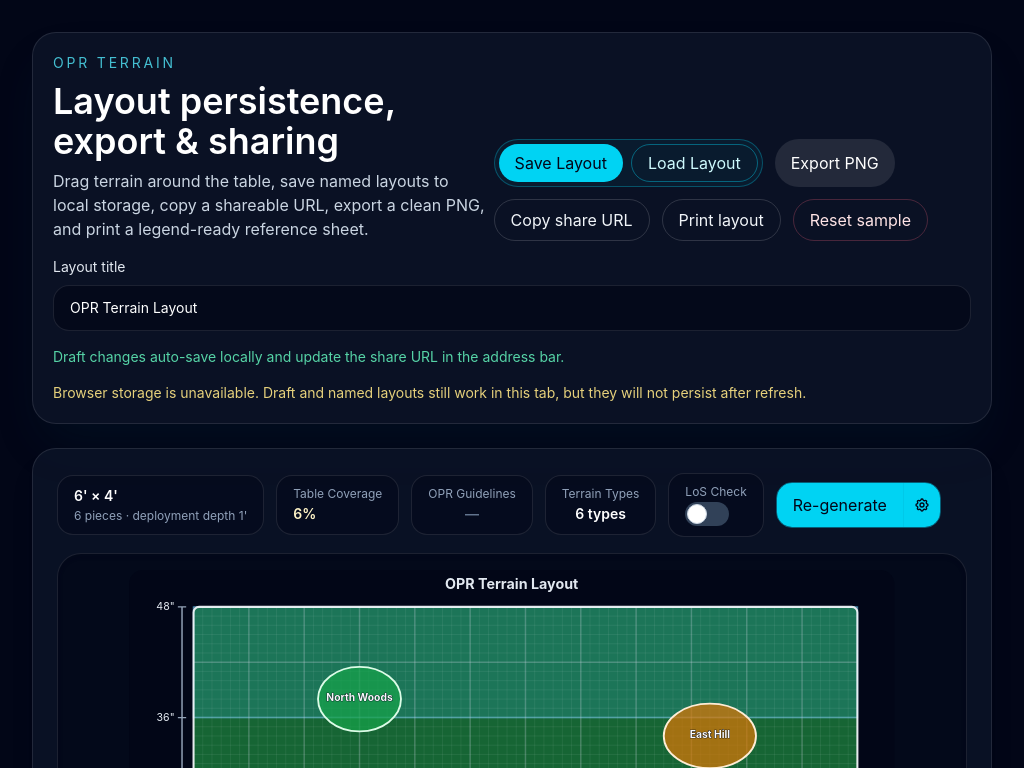
Test: LayoutStudio › shows a warning instead of crashing when browser storage writes fail
This screenshot has width=1024, height=768.
Expected: the message shows "Browser storage is unavailable", [53,384,806,401]
Click the button "Save Layout". click: (561, 163)
box: [499,144,623,182]
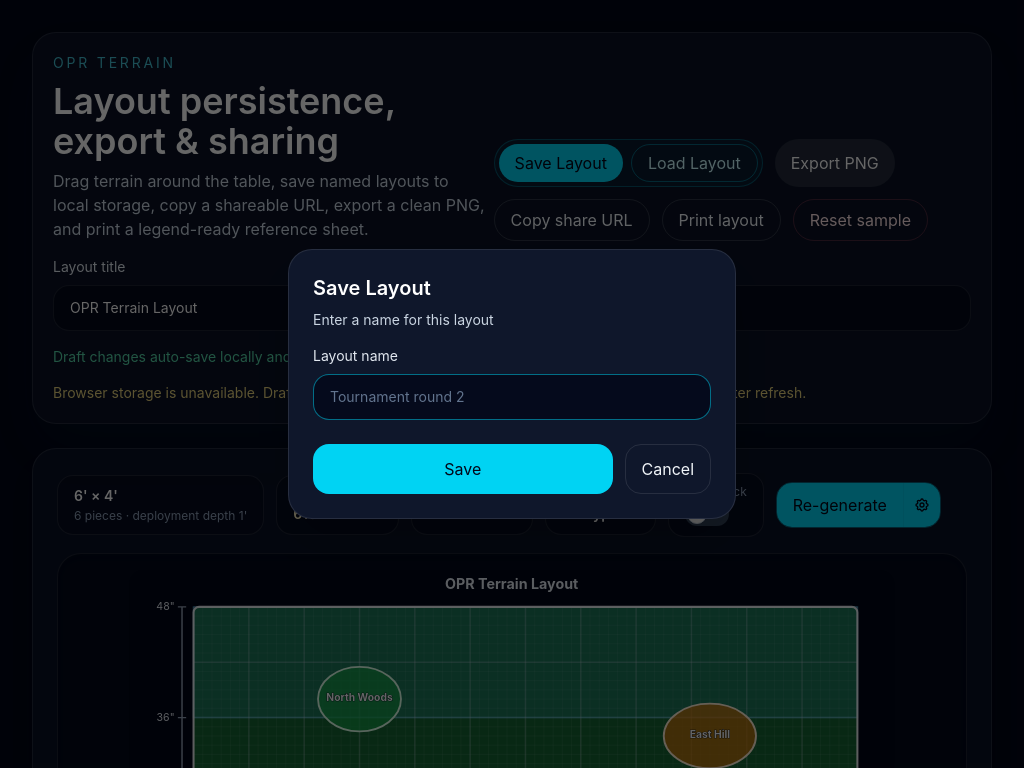
Type "Practice Match" into the field labelled "Layout name". click: (512, 397)
box: [313,374,711,420]
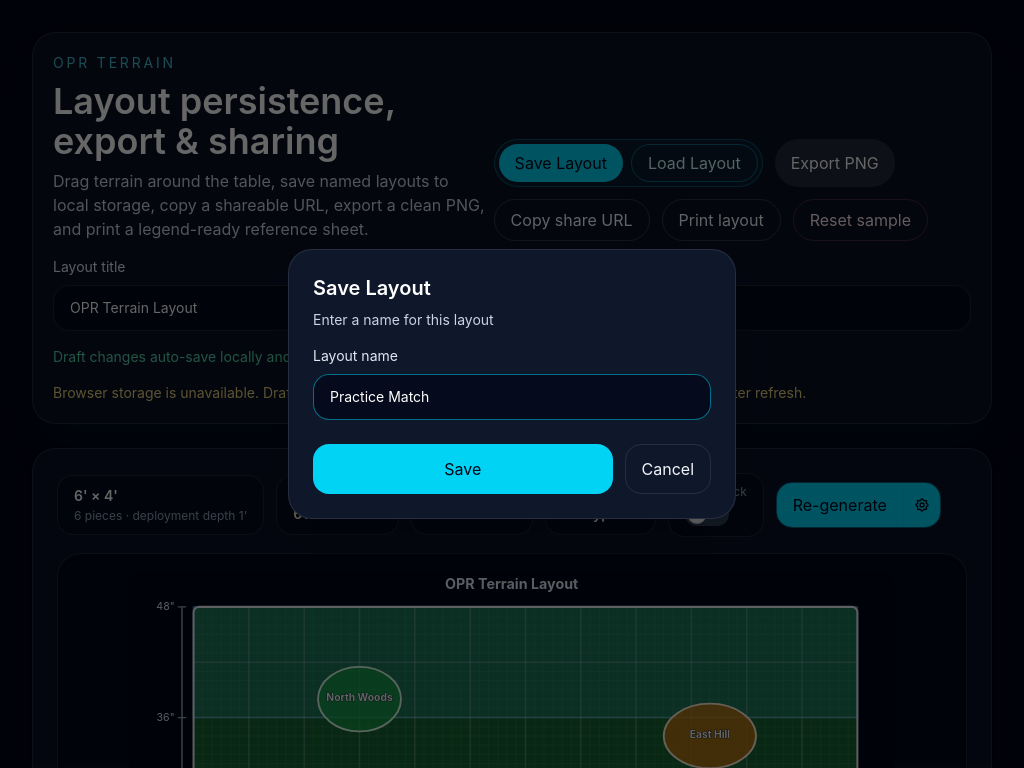
Click the button "Save". click: (463, 469)
box: [313,444,612,494]
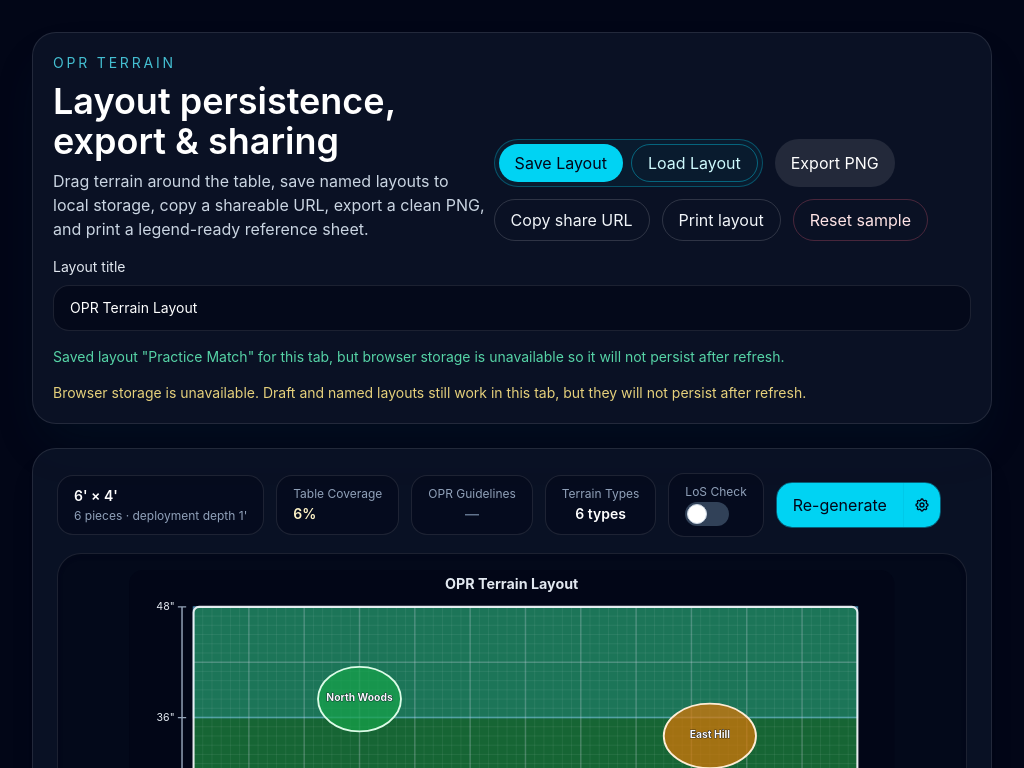
Result: the text "Saved layout \"Practice Match\" for this tab" is shown at [53,348,784,365]
Click the button "Load Layout". click: (694, 163)
box: [631,144,758,182]
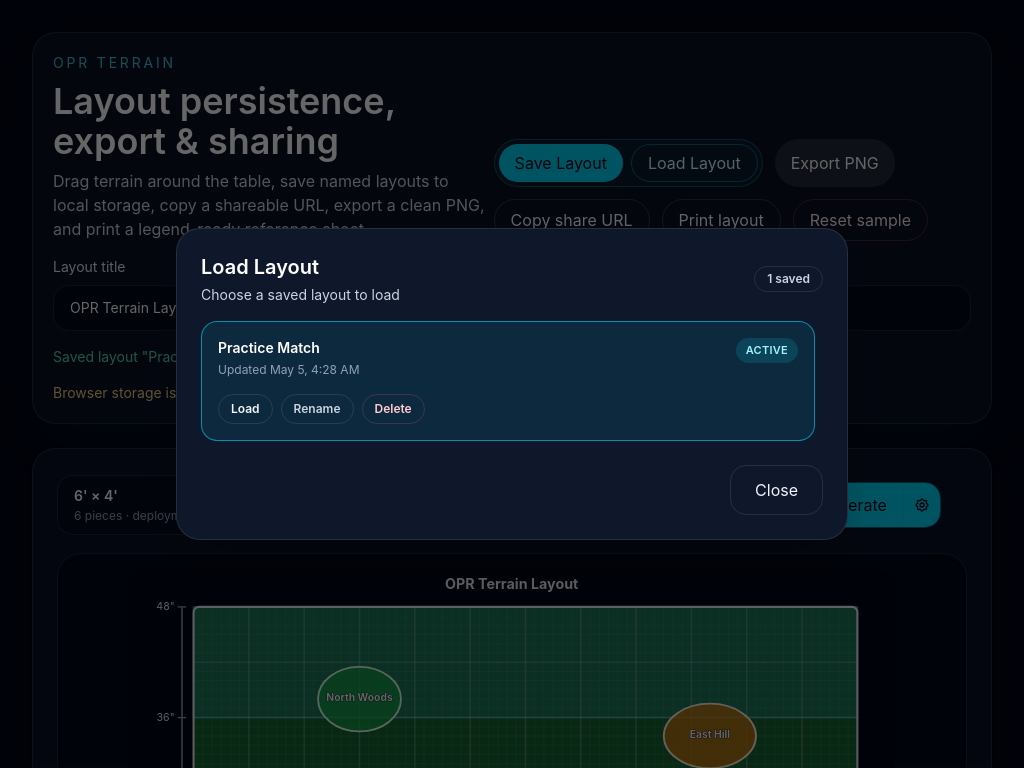
Result: the heading "Practice Match" is shown at [218,339,320,356]
